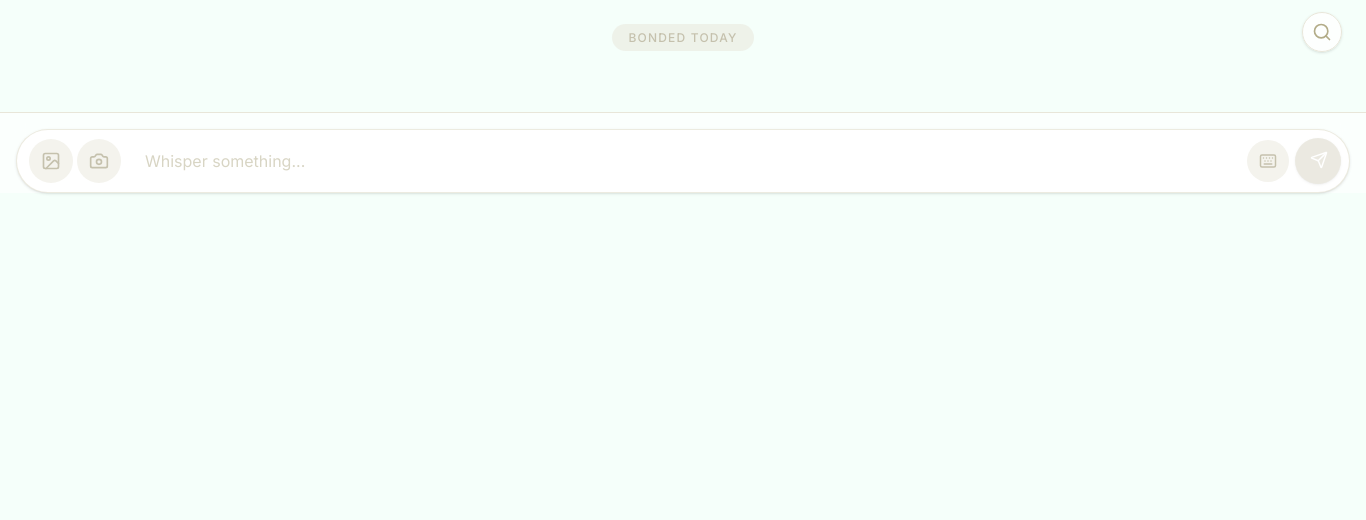
it: ChatScreen › should update input text when virtual keyboard key is pressed
Open keyboard
Click the button named "Toggle keyboard".
click(1268, 161)  # box [1247, 140, 1289, 182]
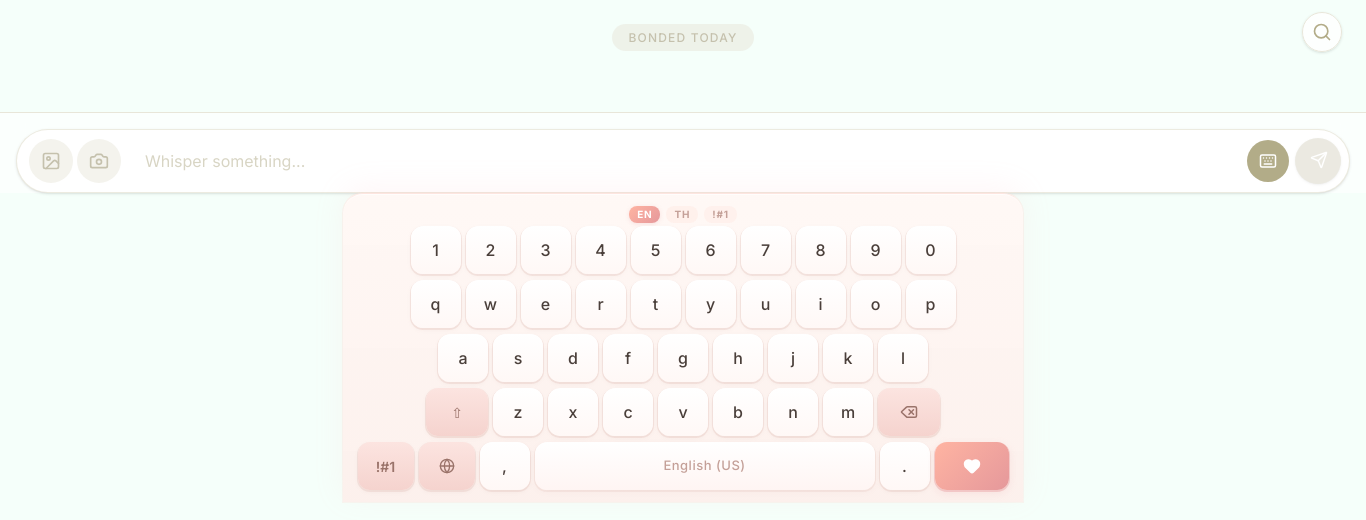
Press 'h', 'i' on virtual keyboard
Click the button "h".
click(738, 358)  # box [713, 334, 763, 382]
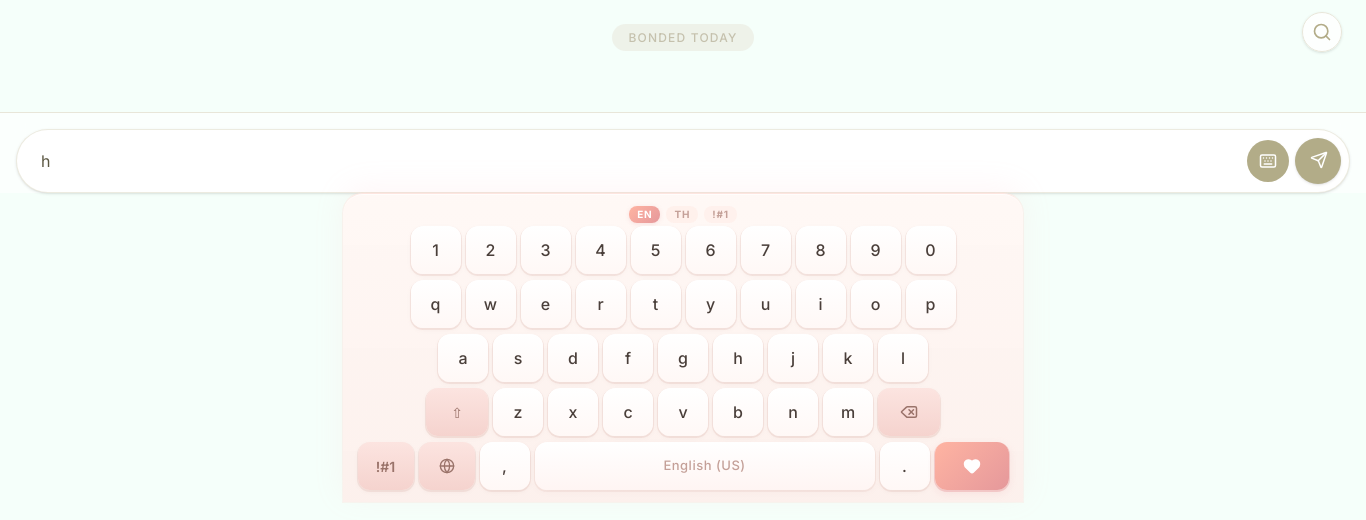
Click the button "i".
click(820, 304)  # box [796, 280, 846, 328]
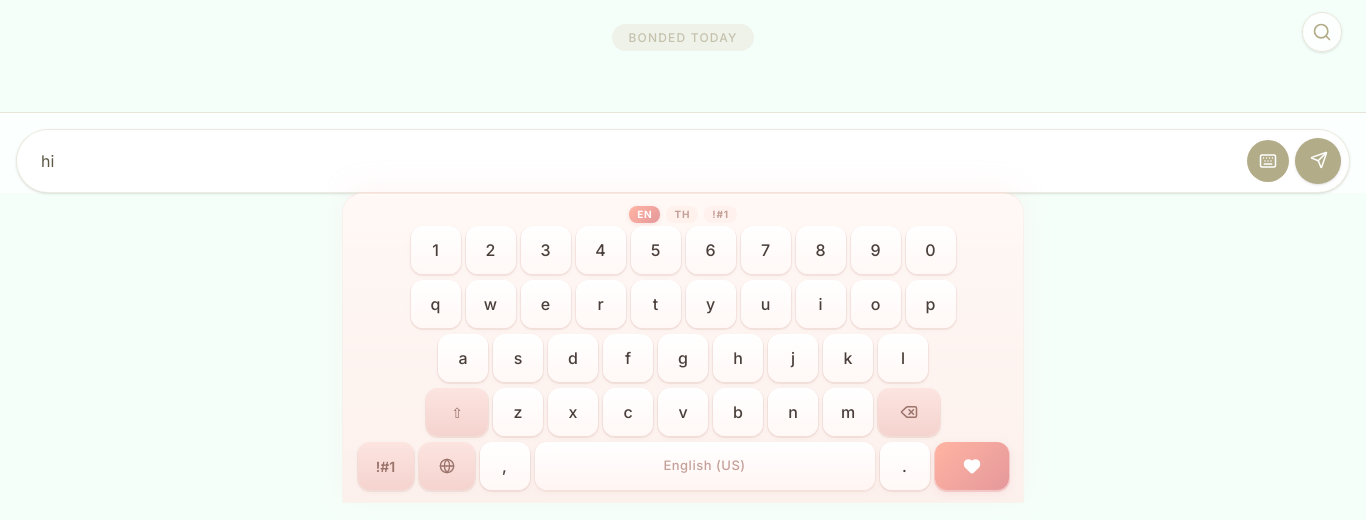
Result: the field with placeholder "Whisper something..." holds "hi" at [25, 141, 1245, 181]
